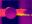Hotspot: (16, 10, 25, 16)
